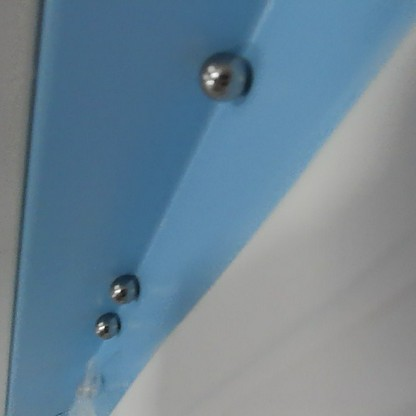ironball: (195, 50, 257, 104), (105, 269, 138, 304), (89, 311, 121, 343), (73, 373, 106, 401)
